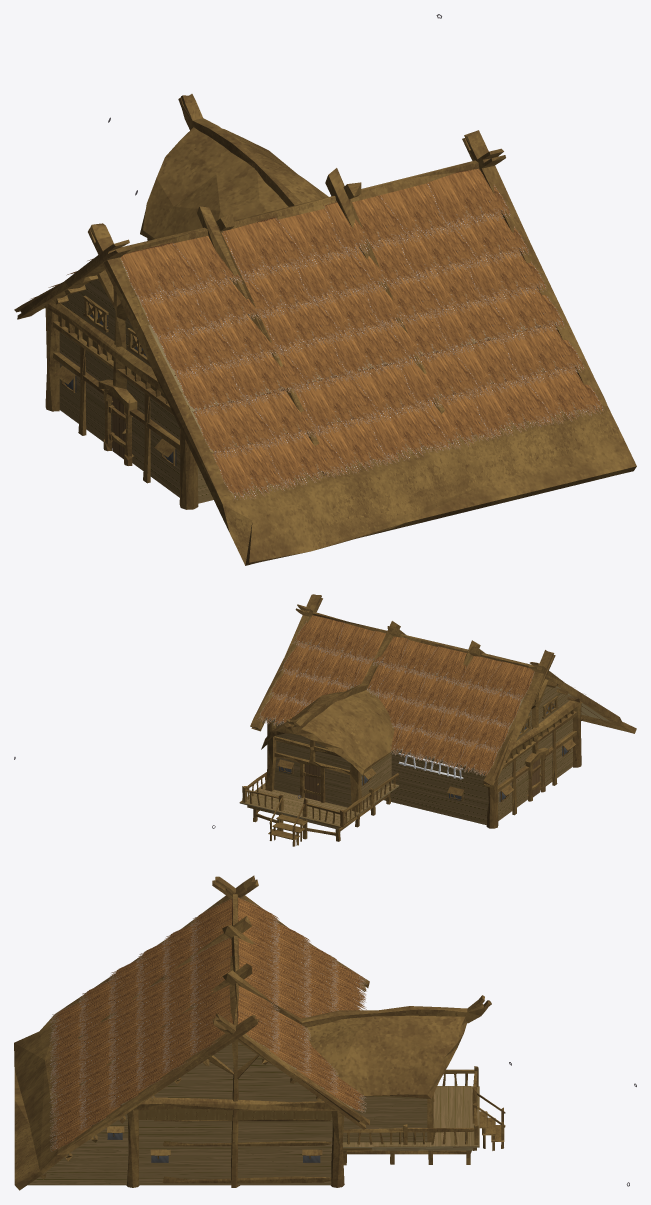
Rendered from House_one.fbx.
The picture shows the model from 3 angles, top to bottom: view 1: azimuth 30°, elevation 25°; view 2: azimuth 150°, elevation 25°; view 3: azimuth 270°, elevation 25°; orthographic projection. The views are drawn at different scales.
Parts seen in each view (by area): view 1: Без имени-1.067, балки.001, корпус.007, стекло.005; view 2: балки.001, Без имени-1.067, корпус.007, стекло.005; view 3: балки.001, Без имени-1.067, корпус.007, стекло.005.
Boxes of the visible parts, x1,y1,x2,y2 form: Без имени-1.067: (30,168,603,500); балки.001: (14,94,636,565); корпус.007: (44,206,591,503); стекло.005: (58,312,176,465); балки.001: (242,594,636,846); Без имени-1.067: (257,615,585,776); корпус.007: (239,641,609,829); стекло.005: (279,702,570,801); балки.001: (14,875,505,1190); Без имени-1.067: (49,897,366,1151); корпус.007: (27,899,479,1185); стекло.005: (107,1108,331,1162).
Bounding box in the file's own units: 3560 × 1333 × 4234.
